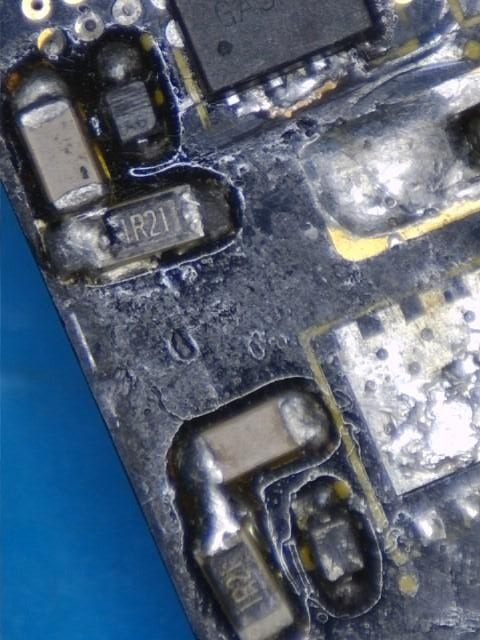pcb_defect: (225, 30, 480, 261), (177, 435, 252, 558), (43, 183, 115, 277)
